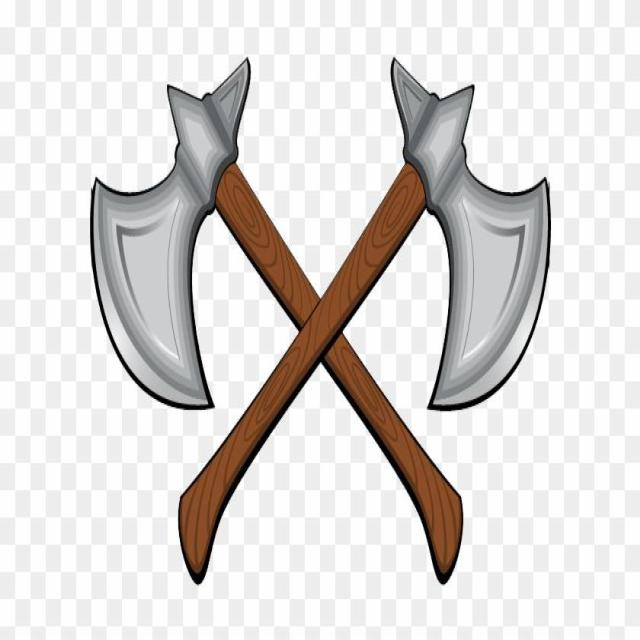Gun: (71, 48, 471, 613), (186, 50, 556, 611)
